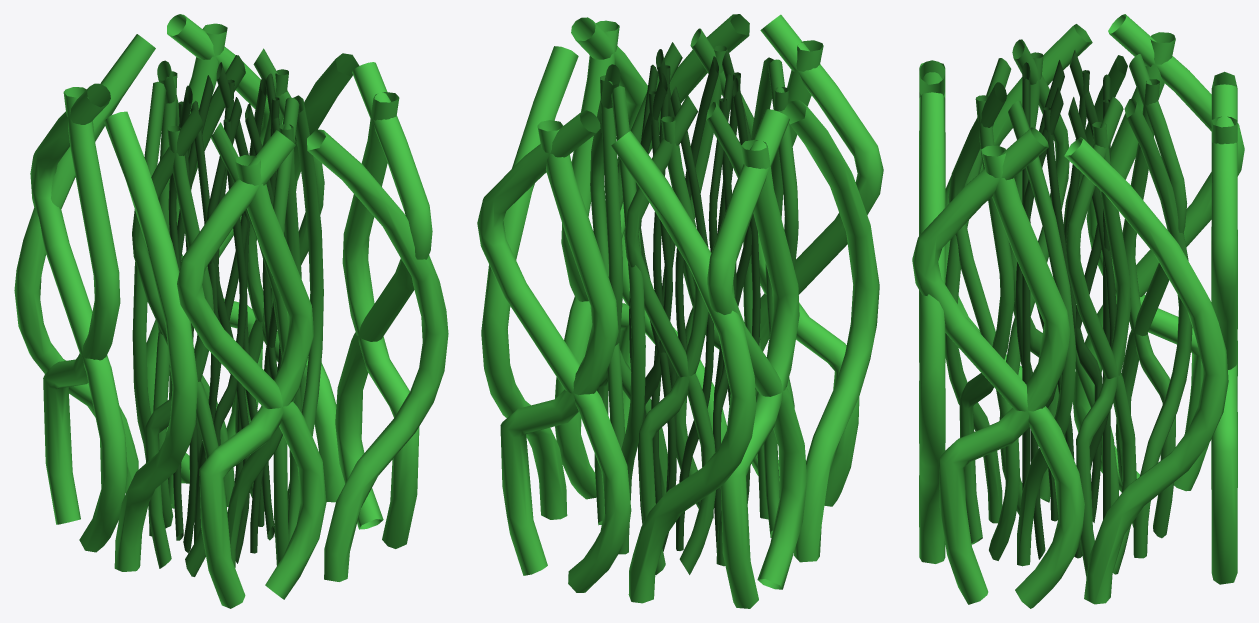
File: BasicBarierModel.fbx
The picture shows the model from 3 angles, left to right: view 1: azimuth 30°, elevation 25°; view 2: azimuth 150°, elevation 25°; view 3: azimuth 270°, elevation 25°; orthographic projection. The views are drawn at different scales.
Visible parts, largest first — view 1: Extern, Middle, Intern; view 2: Extern, Middle, Intern; view 3: Extern, Middle, Intern.
Boxes of the visible parts, <box> form: Extern: <box>14,14,448,608</box>; Middle: <box>132,48,324,576</box>; Intern: <box>168,62,285,563</box>; Extern: <box>477,14,883,608</box>; Middle: <box>590,28,798,574</box>; Intern: <box>629,49,760,552</box>; Extern: <box>912,14,1244,608</box>; Middle: <box>945,39,1192,577</box>; Intern: <box>1015,50,1116,559</box>.
Bounding box in the file's own units: 258 × 401 × 253.
